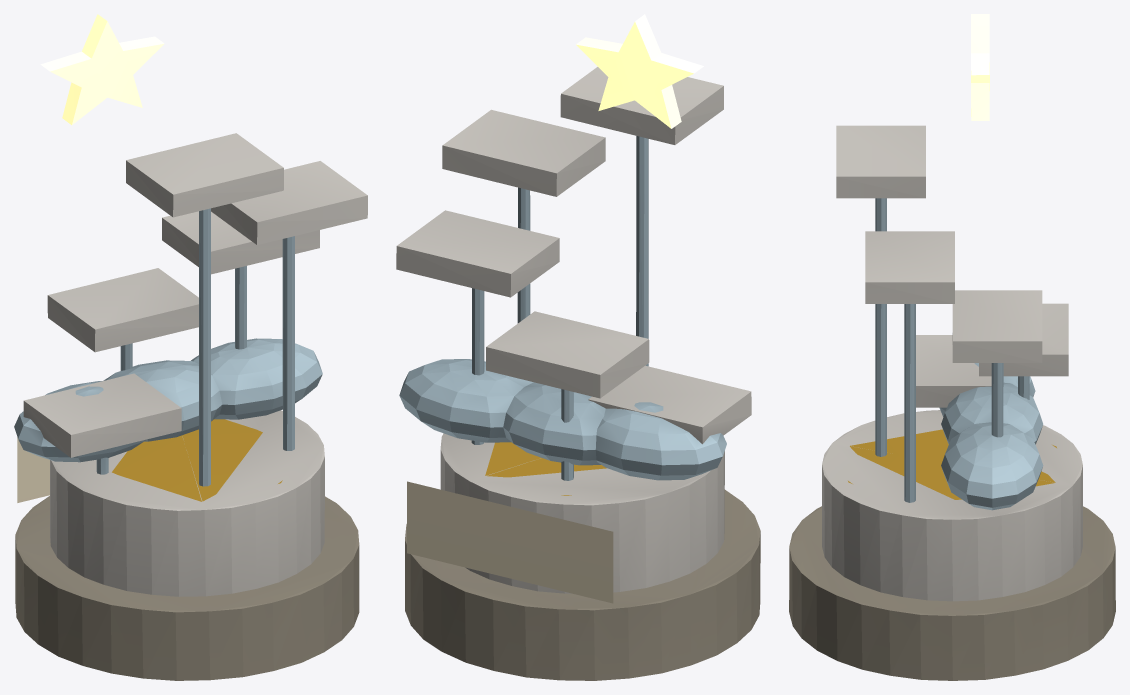
File: trophy_sky_low.glb
The picture shows the model from 3 angles, left to right: view 1: azimuth 30°, elevation 25°; view 2: azimuth 150°, elevation 25°; view 3: azimuth 270°, elevation 25°; orthographic projection. The views are drawn at different scales.
Visible parts, largest first — view 1: common_pedestal, symbol, trophy_plate; view 2: symbol, common_pedestal, trophy_plate; view 3: common_pedestal, symbol.
Part boxes in pixels (bbox=[...]): common_pedestal: bbox=[15, 410, 359, 680]; symbol: bbox=[14, 14, 367, 486]; trophy_plate: bbox=[17, 437, 49, 502]; symbol: bbox=[396, 14, 751, 480]; common_pedestal: bbox=[405, 433, 760, 680]; trophy_plate: bbox=[407, 481, 613, 603]; common_pedestal: bbox=[789, 410, 1115, 680]; symbol: bbox=[836, 14, 1068, 510].
Size of the model in its own units: 0.9176 by 1.72 by 0.8987.
